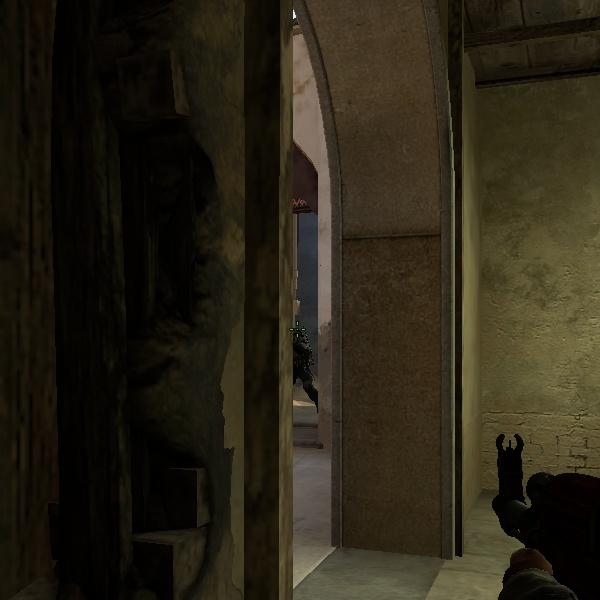ct_body: (286, 324, 321, 408)
